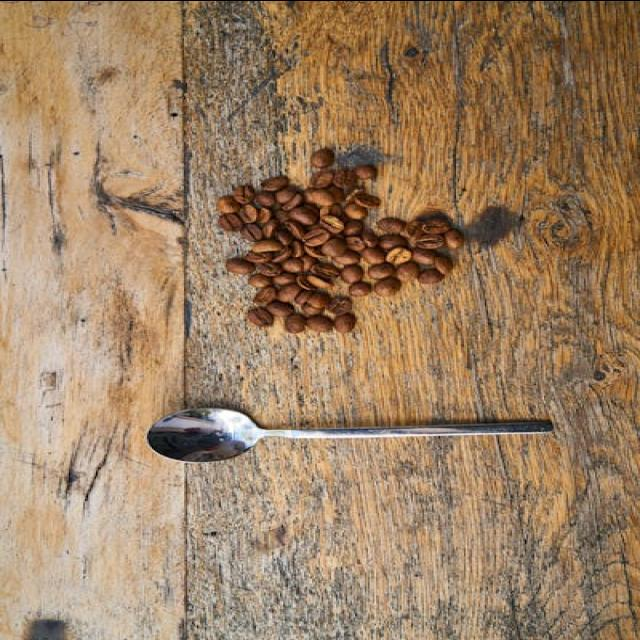spoon: (147, 404, 558, 463)
